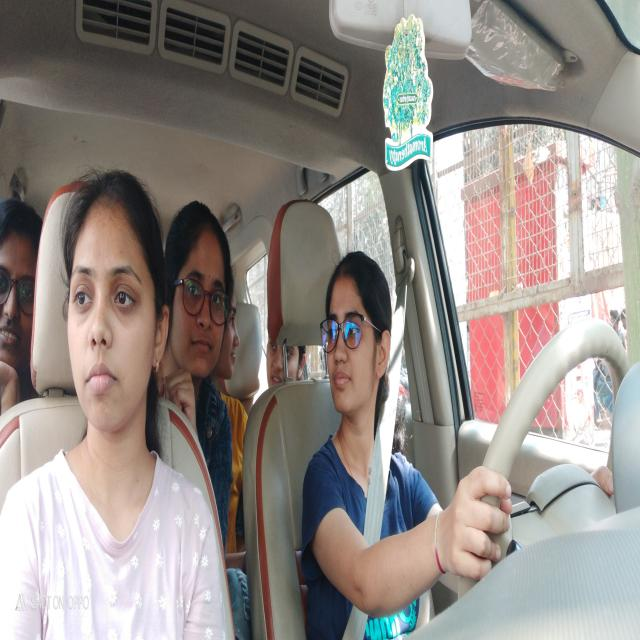LeftRight: (319, 249, 395, 456)
person: (61, 168, 170, 429), (169, 187, 237, 394), (1, 202, 39, 404)
